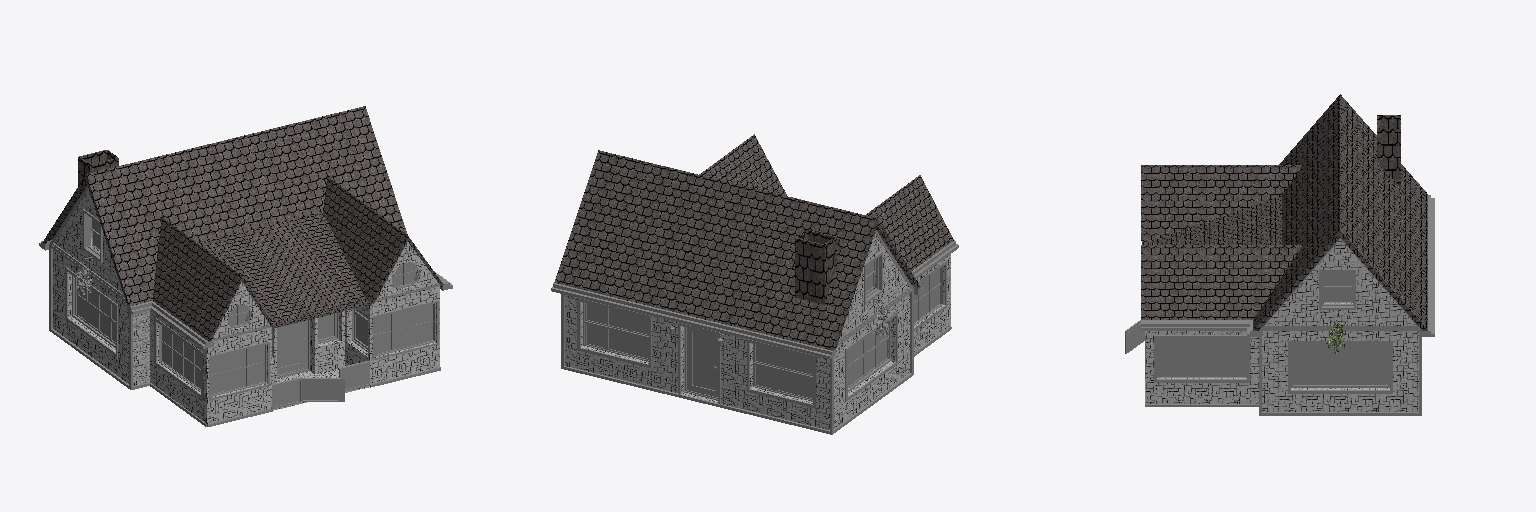
The picture shows the model from 3 angles: view 1: azimuth 30°, elevation 25°; view 2: azimuth 150°, elevation 25°; view 3: azimuth 270°, elevation 25°; orthographic projection.
Visible parts, largest first — view 1: casetta_1_tetti_Cubo18, casetta_1_tetti_tetti_2, casetta_1_tetti_tetto_1, casetta_1_muri_blocchi_esterni, casetta_1_muri_casa, casetta_1_vetri_Cubo6, casetta_1_muri_facciata_aggetti, casetta_1_muri_Cubo29, casetta_1_porta2_Cubo, casetta_1_cancello, casetta_1_profili1_bordi, casetta_1_vetri_Cubo11 (+12 smaller); view 2: casetta_1_tetti_Cubo18, casetta_1_muri_casa, casetta_1_tetti_tetti_2, casetta_1_vetri_Cubo3, casetta_1_stipiti_Cubo10, casetta_1_profili1_Cubo4, casetta_1_cornicioni_Cubo14, casetta_1_muri_Cubo34, casetta_1_profili1_bordi, casetta_1_muri_Cubo29, casetta_1_muri_blocchi_esterni, casetta_1_profili1_Cubo24 (+3 smaller); view 3: casetta_1_tetti_Cubo18, casetta_1_tetti_tetti_2, casetta_1_muri_casa, casetta_1_muri_Cubo29, casetta_1_muri_blocchi_esterni, casetta_1_tetti_tetto_1, casetta_1_vetri_Cubo11, casetta_1_vetri_Cubo5, casetta_1_vetri_Cubo23, casetta_1_profili1_bordi, casetta_1_muri_Cubo34, casetta_1_cornicioni_Cubo28 (+5 smaller).
Part boxes in pixels (left/top/right/bottom): casetta_1_tetti_Cubo18: left=43, top=106, right=407, bottom=305; casetta_1_tetti_tetti_2: left=153, top=177, right=443, bottom=341; casetta_1_tetti_tetto_1: left=198, top=213, right=371, bottom=327; casetta_1_muri_blocchi_esterni: left=150, top=286, right=439, bottom=423; casetta_1_muri_casa: left=53, top=237, right=149, bottom=385; casetta_1_vetri_Cubo6: left=211, top=304, right=432, bottom=393; casetta_1_muri_facciata_aggetti: left=213, top=242, right=438, bottom=338; casetta_1_muri_Cubo29: left=54, top=189, right=122, bottom=292; casetta_1_porta2_Cubo: left=277, top=320, right=307, bottom=375; casetta_1_cancello: left=272, top=361, right=370, bottom=408; casetta_1_profili1_bordi: left=49, top=233, right=149, bottom=389; casetta_1_vetri_Cubo11: left=162, top=326, right=200, bottom=388; casetta_1_tetti_Cubo18: left=554, top=150, right=920, bottom=350; casetta_1_muri_casa: left=565, top=294, right=909, bottom=429; casetta_1_tetti_tetti_2: left=699, top=134, right=953, bottom=294; casetta_1_vetri_Cubo3: left=587, top=303, right=812, bottom=398; casetta_1_stipiti_Cubo10: left=585, top=303, right=812, bottom=399; casetta_1_profili1_Cubo4: left=577, top=298, right=897, bottom=407; casetta_1_cornicioni_Cubo14: left=551, top=283, right=923, bottom=358; casetta_1_muri_Cubo34: left=795, top=230, right=836, bottom=304; casetta_1_profili1_bordi: left=561, top=288, right=913, bottom=434; casetta_1_muri_Cubo29: left=840, top=234, right=908, bottom=337; casetta_1_muri_blocchi_esterni: left=914, top=254, right=950, bottom=352; casetta_1_profili1_Cubo24: left=838, top=230, right=912, bottom=342; casetta_1_tetti_Cubo18: left=1253, top=94, right=1427, bottom=330; casetta_1_tetti_tetti_2: left=1141, top=165, right=1302, bottom=319; casetta_1_muri_casa: left=1262, top=303, right=1418, bottom=411; casetta_1_muri_Cubo29: left=1265, top=239, right=1415, bottom=325; casetta_1_muri_blocchi_esterni: left=1146, top=331, right=1258, bottom=403; casetta_1_tetti_tetto_1: left=1142, top=196, right=1281, bottom=244; casetta_1_vetri_Cubo11: left=1158, top=339, right=1245, bottom=375; casetta_1_vetri_Cubo5: left=1295, top=344, right=1385, bottom=362; casetta_1_vetri_Cubo23: left=1295, top=366, right=1385, bottom=383; casetta_1_profili1_bordi: left=1259, top=329, right=1421, bottom=415; casetta_1_muri_Cubo34: left=1377, top=115, right=1400, bottom=187; casetta_1_cornicioni_Cubo28: left=1141, top=320, right=1252, bottom=330.
Size of the model in its own units: 177 by 106 by 158.
Materials: 16 (3 with a texture image).